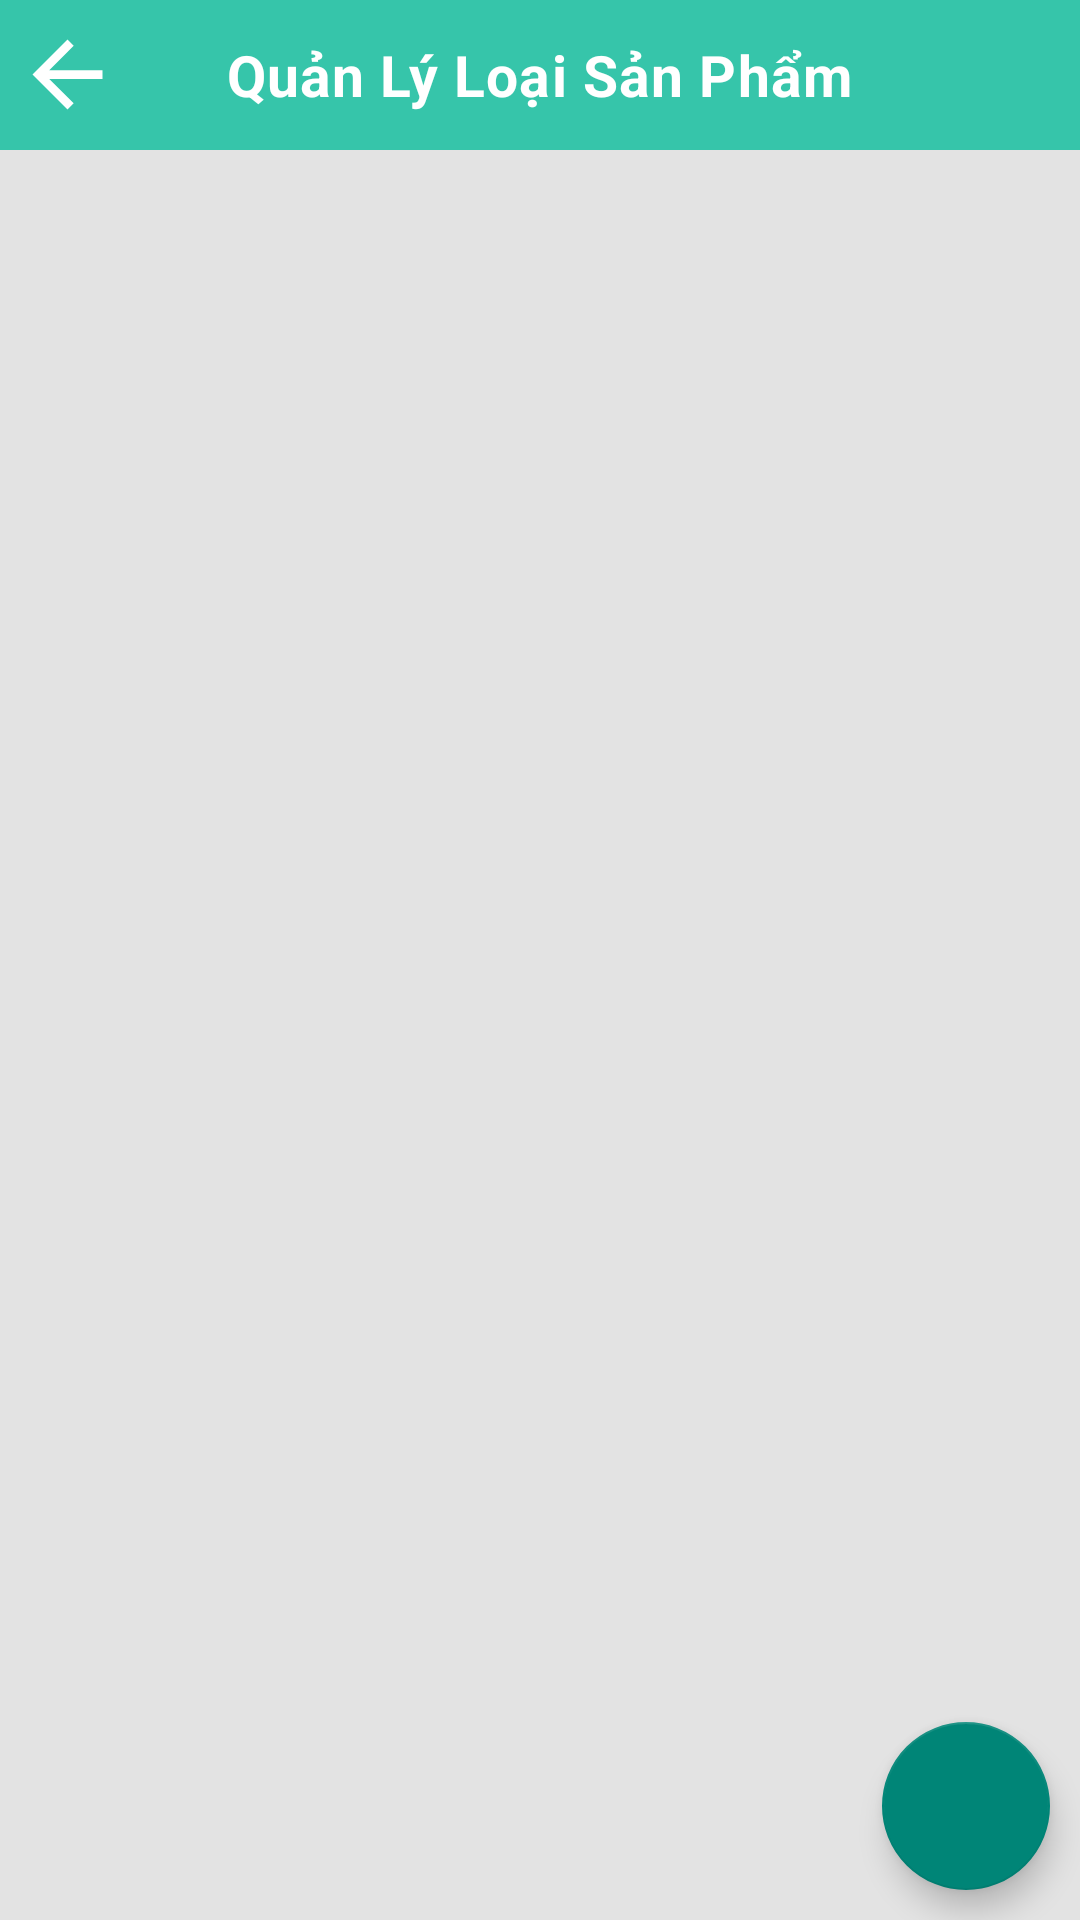

Named icons in this screenshot (1080*1920) and their centers, point (x, y):
back: point (67, 74)
